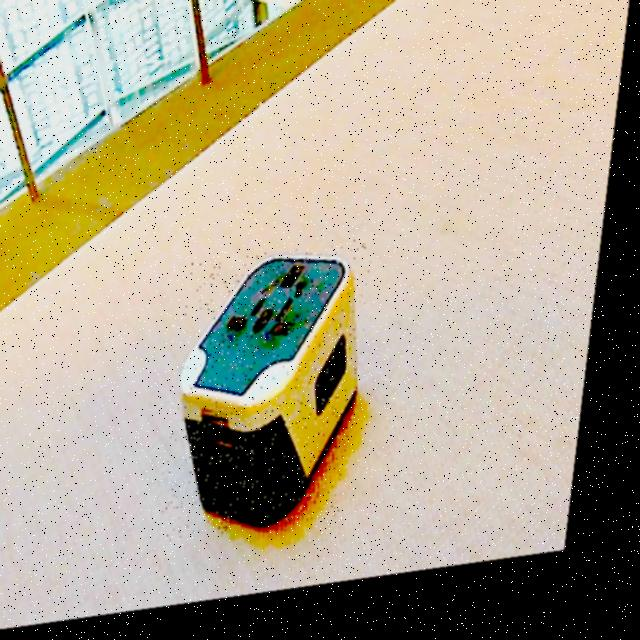adapter: (173, 249, 383, 549)
